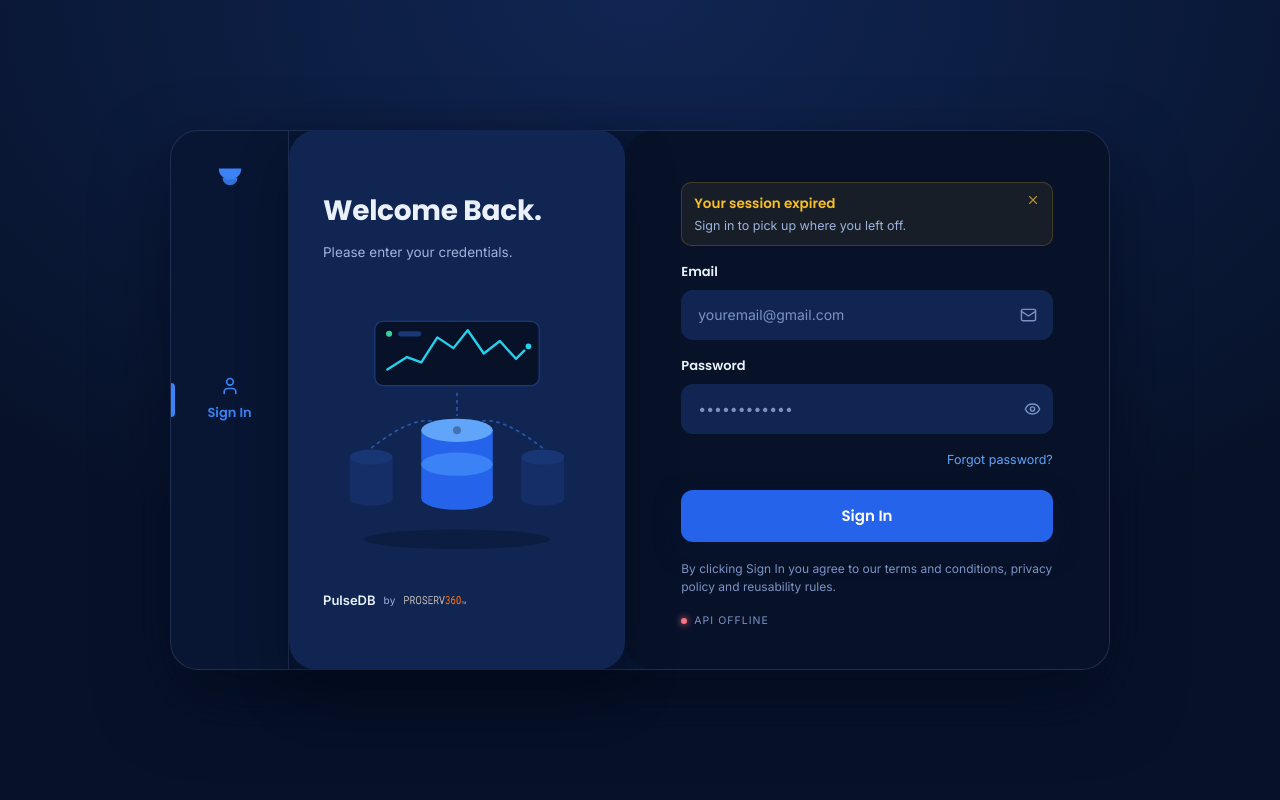
Test: LoginPage — why you are here › can be dismissed
Expected: the text "Your session expired" is shown, [694,194,836,213]
Click the button named "Dismiss". click: (1033, 200)
box: [1026,193,1040,207]
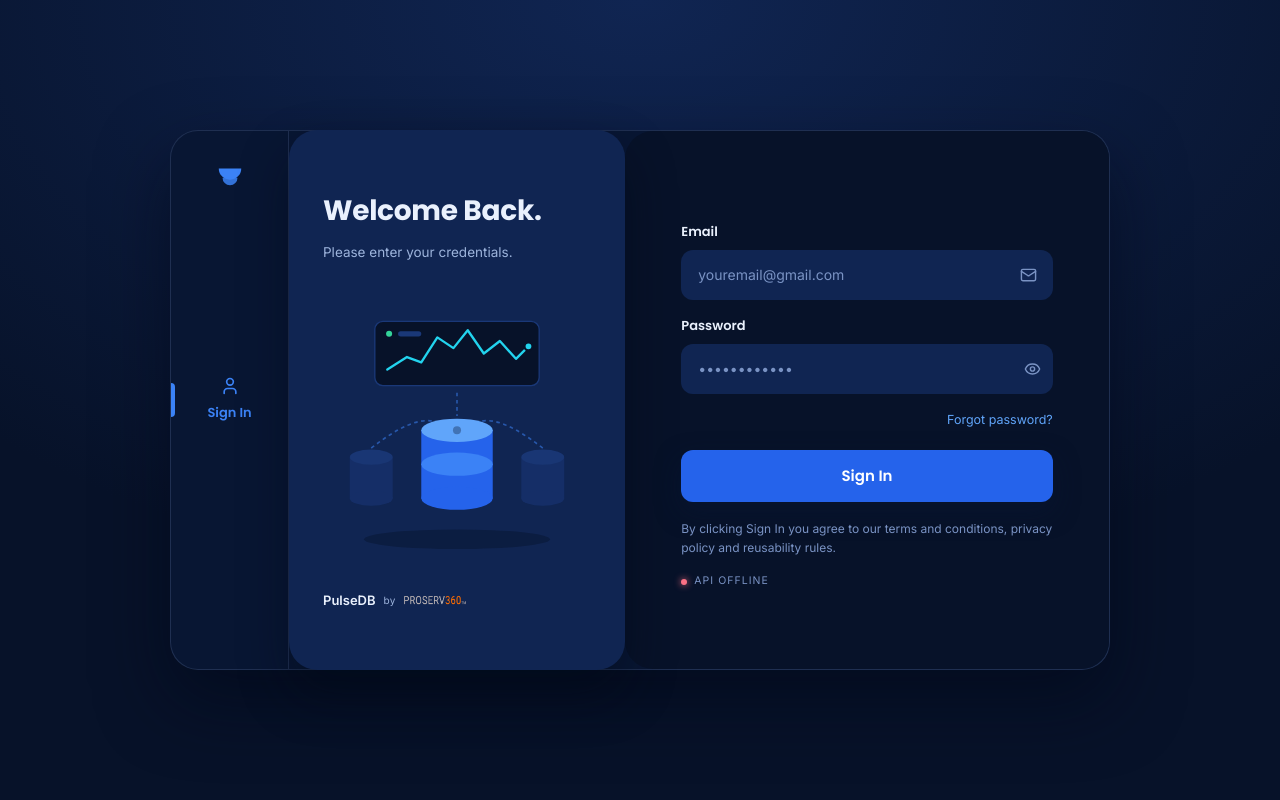
Expected: the text "Your session expired" is gone
